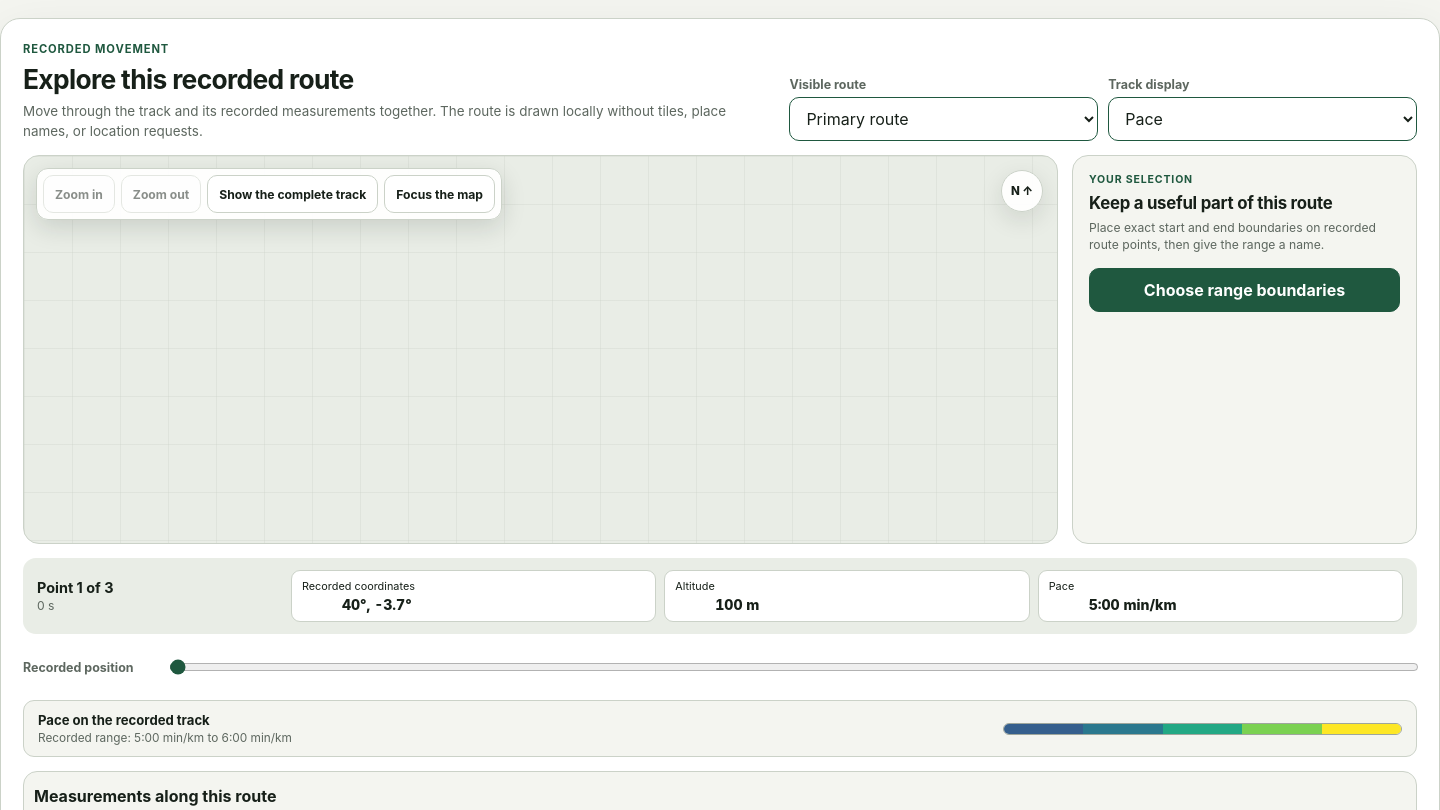
Test: TrainingRouteWorkbench › keeps an incomplete two-point selection transient and cancellable
Click the button "Choose range boundaries" at (1244, 290), box [1089,268,1400,312]
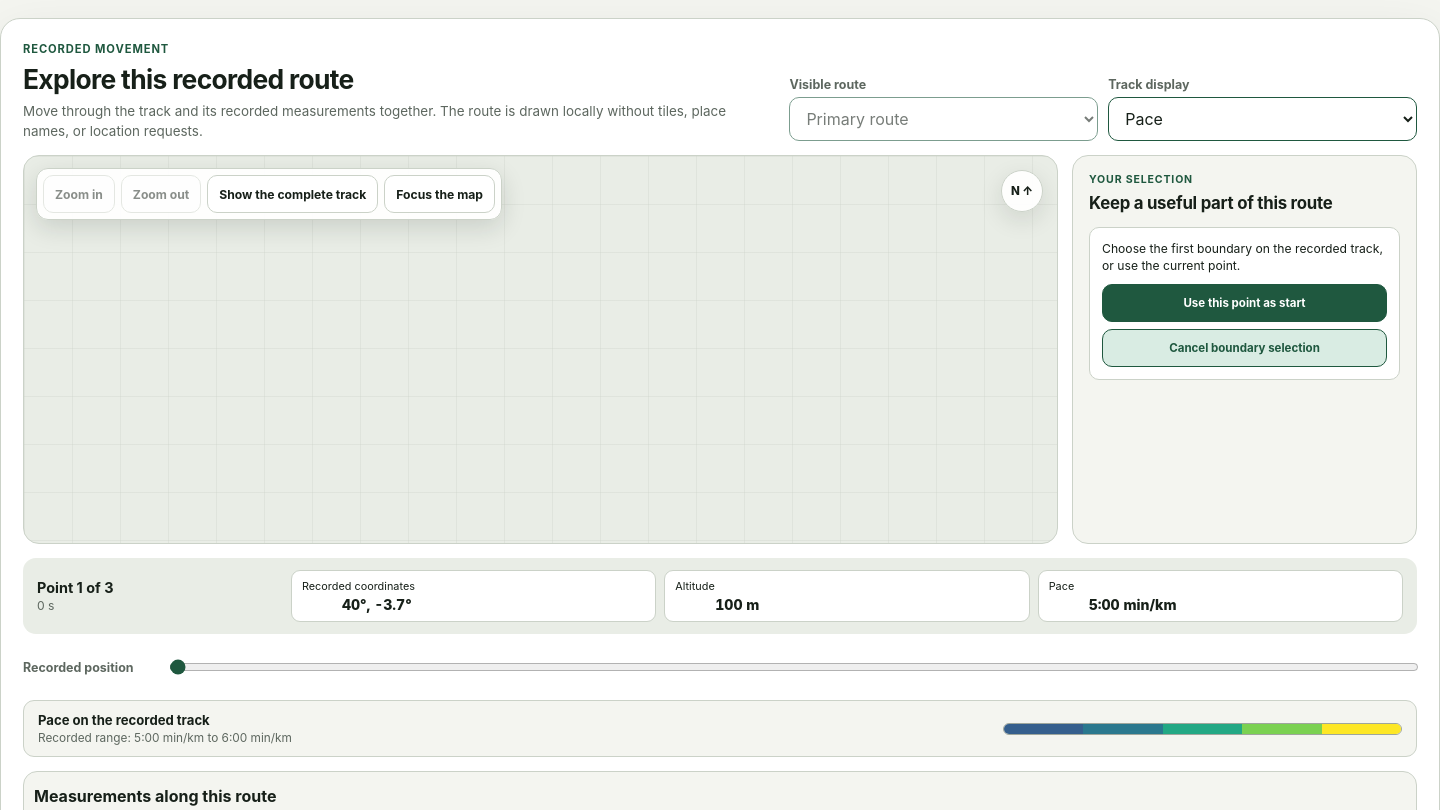
Click the button "Use this point as start" at (1244, 303), box [1102,284,1387,322]
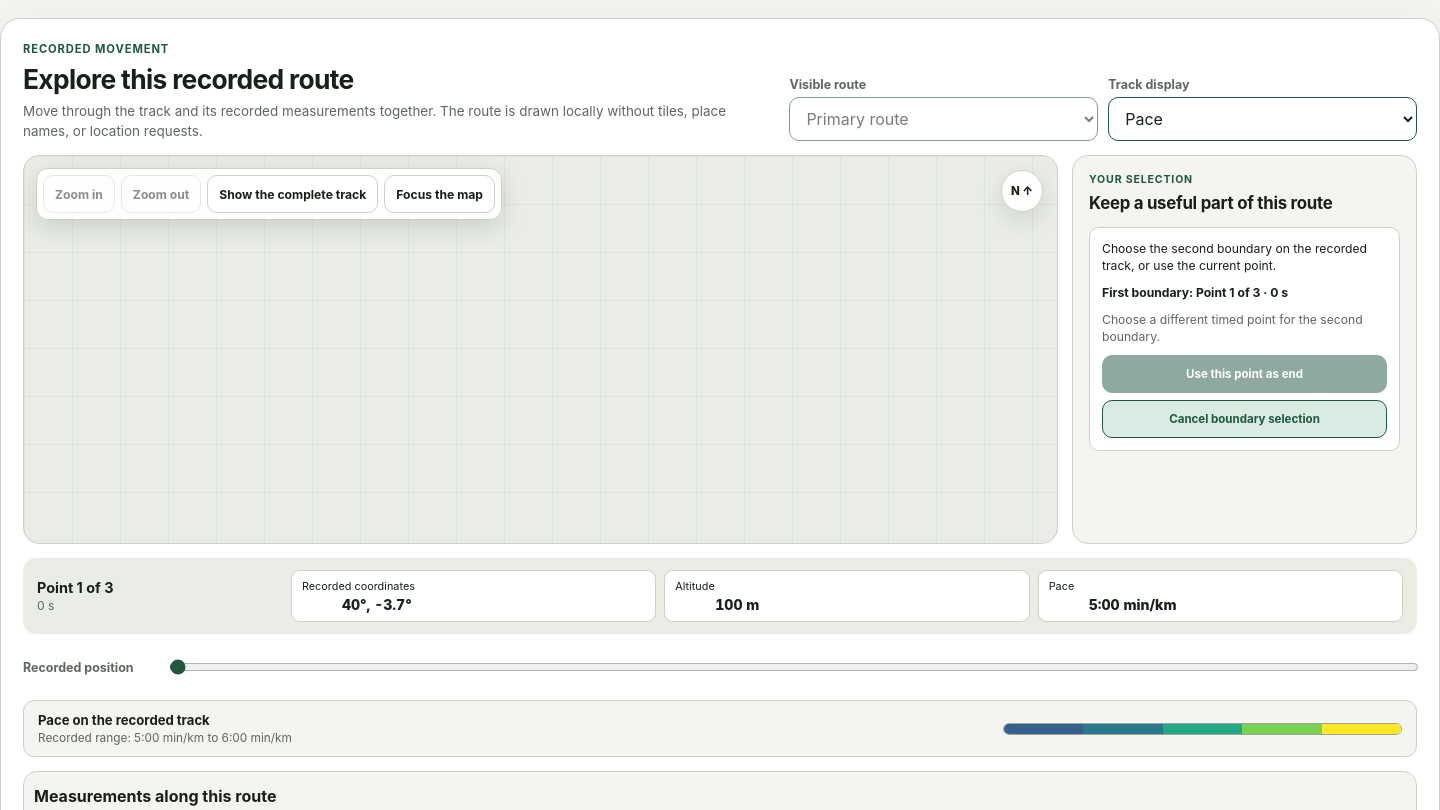
Now the text "Choose a different timed point for the second boundary." is shown, box [1102,311,1387,346]
Now the button "Use this point as end" is disabled, box [1102,355,1387,393]
Now the button labelled "start" is gone
Click the button "Cancel boundary selection" at (1244, 419), box [1102,400,1387,438]
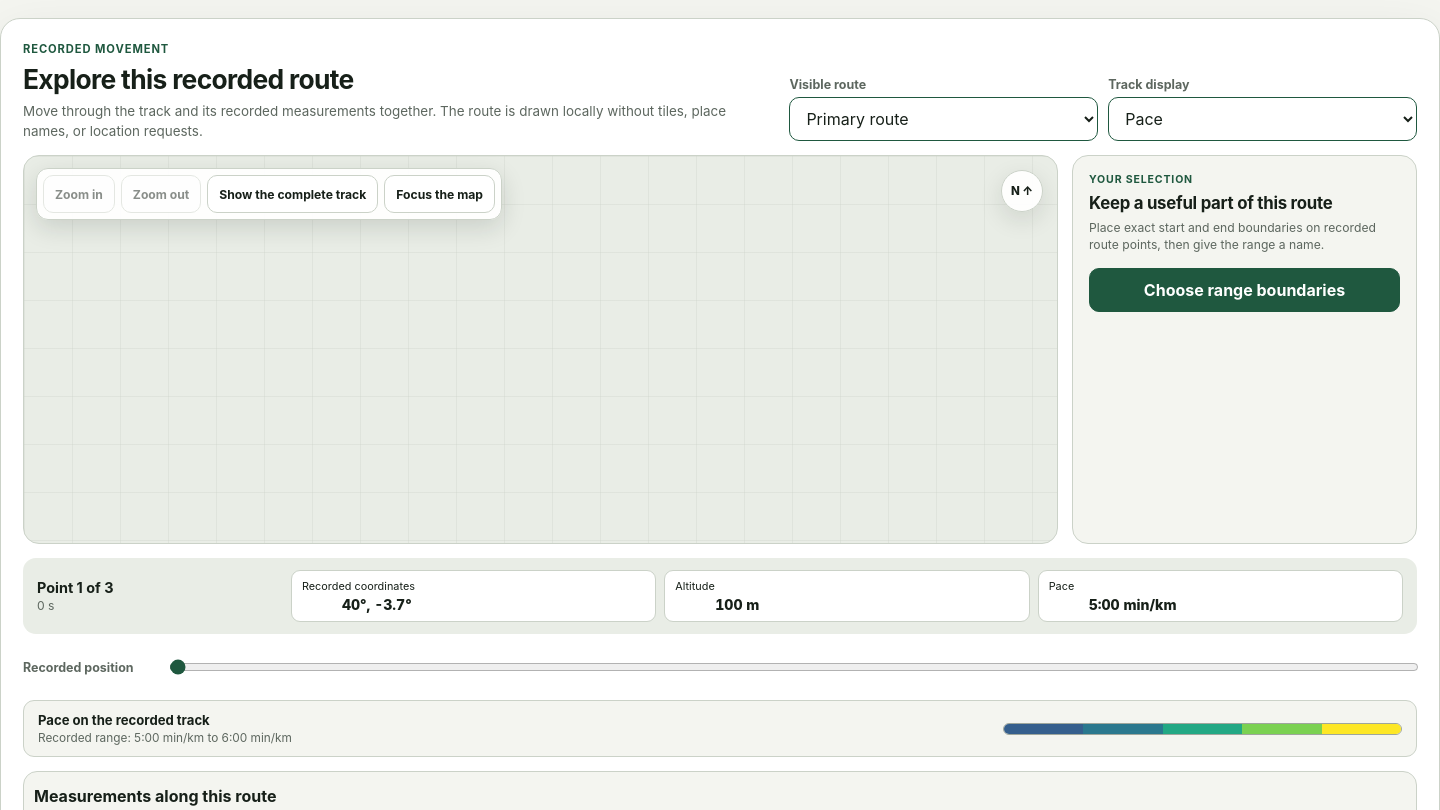
Now the dropdown labelled "Visible route" is enabled, box [789,97,1098,141]
Now the button "Choose range boundaries" is enabled, box [1089,268,1400,312]
